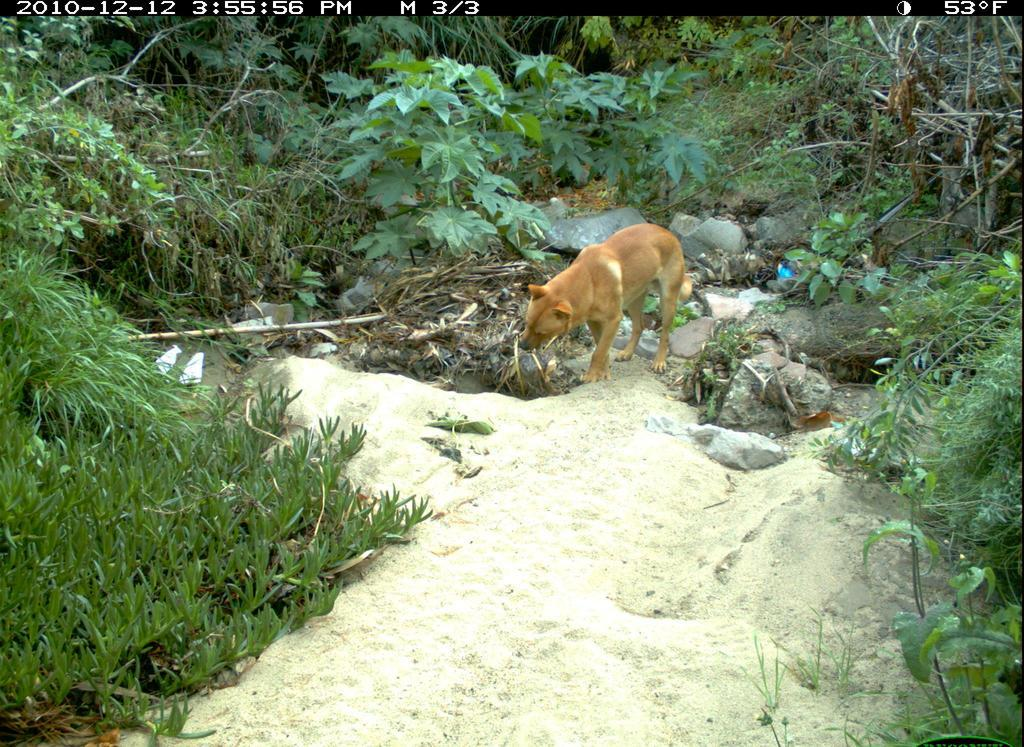dog: (510, 218, 701, 401)
